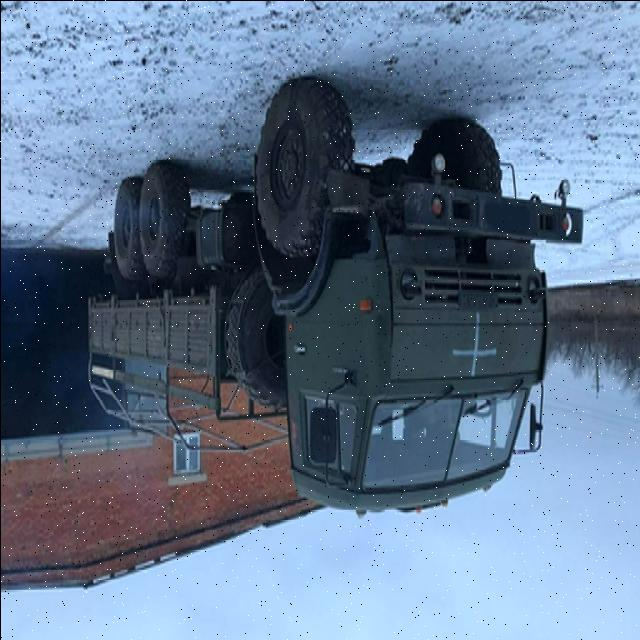TRUCK: (81, 71, 586, 518)
